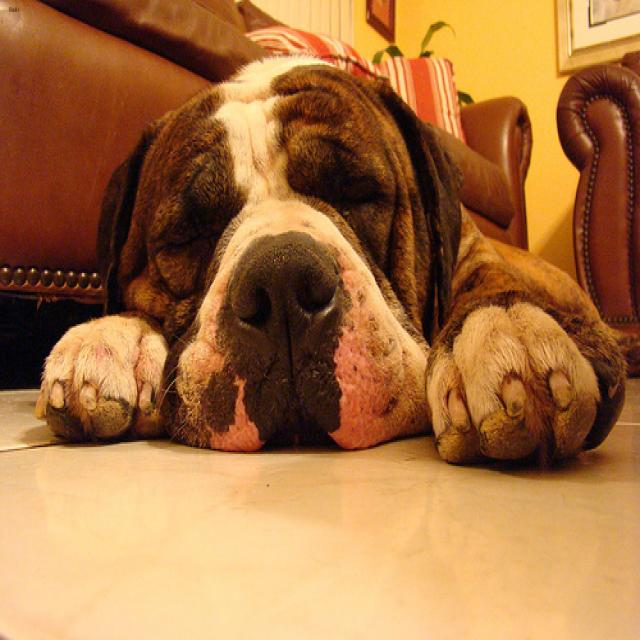dog-american_bulldog: (27, 48, 637, 485)
